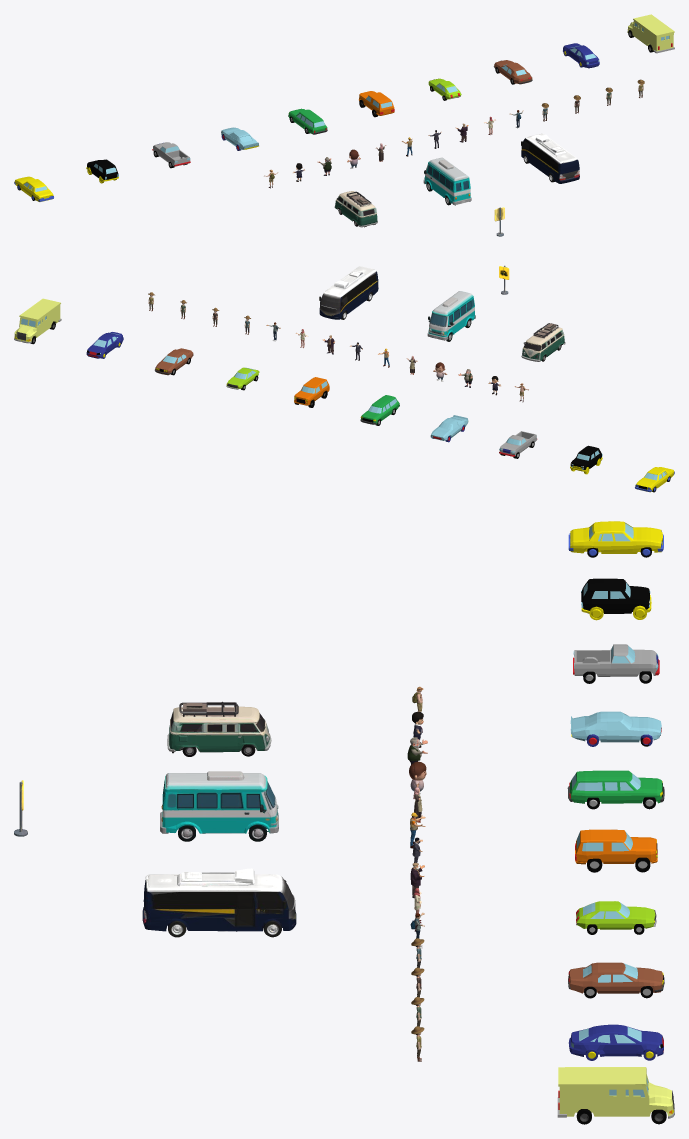
File: Fullfilled_Prefabs.glb
3 views of the same model, one above another, from view 1: azimuth 30°, elevation 25°; view 2: azimuth 150°, elevation 25°; view 3: azimuth 270°, elevation 25° (orthographic). The views are drawn at different scales.
Visible parts, largest first — view 1: SPW_BUS_T3_midibus, SPW_BUS_T2_minibus, SPW_CAR_10, SPW_BUS_T1_dolmus, SPW_CAR_05, SPW_CAR_06, SPW_CAR_01, SPW_CAR_03, SPW_CAR_08, SPW_CAR_09, SPW_CAR_04, SPW_CAR_02 (+1 smaller); view 2: SPW_BUS_T3_midibus, SPW_BUS_T2_minibus, SPW_CAR_10, SPW_BUS_T1_dolmus, SPW_CAR_05, SPW_CAR_06, SPW_CAR_08, SPW_CAR_03, SPW_CAR_09, SPW_CAR_01, SPW_CAR_04, SPW_CAR_02 (+1 smaller); view 3: SPW_BUS_T3_midibus, SPW_BUS_T2_minibus, SPW_CAR_10, SPW_BUS_T1_dolmus, SPW_CAR_05, SPW_CAR_06, SPW_CAR_08, SPW_CAR_01, SPW_CAR_09, SPW_CAR_03, SPW_CAR_04, SPW_CAR_02 (+1 smaller).
Boxes of the visible parts, x1=… form: SPW_BUS_T3_midibus: x1=521, y1=133, x2=579, y2=183; SPW_BUS_T2_minibus: x1=423, y1=157, x2=471, y2=205; SPW_CAR_10: x1=627, y1=14, x2=674, y2=53; SPW_BUS_T1_dolmus: x1=334, y1=191, x2=377, y2=227; SPW_CAR_05: x1=288, y1=108, x2=327, y2=134; SPW_CAR_06: x1=358, y1=91, x2=394, y2=117; SPW_CAR_01: x1=14, y1=176, x2=53, y2=201; SPW_CAR_03: x1=152, y1=142, x2=190, y2=168; SPW_CAR_08: x1=493, y1=60, x2=532, y2=84; SPW_CAR_09: x1=563, y1=43, x2=599, y2=68; SPW_CAR_04: x1=221, y1=127, x2=258, y2=150; SPW_CAR_02: x1=86, y1=159, x2=118, y2=183; SPW_BUS_T3_midibus: x1=319, y1=266, x2=378, y2=319; SPW_BUS_T2_minibus: x1=427, y1=291, x2=475, y2=341; SPW_CAR_10: x1=14, y1=298, x2=61, y2=344; SPW_BUS_T1_dolmus: x1=521, y1=323, x2=565, y2=361; SPW_CAR_05: x1=360, y1=395, x2=399, y2=425; SPW_CAR_06: x1=294, y1=377, x2=329, y2=407; SPW_CAR_08: x1=154, y1=348, x2=193, y2=375; SPW_CAR_03: x1=499, y1=431, x2=537, y2=458; SPW_CAR_09: x1=86, y1=332, x2=123, y2=358; SPW_CAR_01: x1=635, y1=467, x2=674, y2=492; SPW_CAR_04: x1=430, y1=415, x2=468, y2=442; SPW_CAR_02: x1=570, y1=445, x2=602, y2=474; SPW_BUS_T3_midibus: x1=142, y1=868, x2=296, y2=937; SPW_BUS_T2_minibus: x1=160, y1=771, x2=278, y2=841; SPW_CAR_10: x1=557, y1=1067, x2=674, y2=1124; SPW_BUS_T1_dolmus: x1=167, y1=701, x2=271, y2=756; SPW_CAR_05: x1=567, y1=770, x2=664, y2=809; SPW_CAR_06: x1=575, y1=829, x2=657, y2=872; SPW_CAR_08: x1=568, y1=962, x2=664, y2=998; SPW_CAR_01: x1=568, y1=521, x2=663, y2=557; SPW_CAR_09: x1=568, y1=1024, x2=663, y2=1060; SPW_CAR_03: x1=573, y1=644, x2=659, y2=683; SPW_CAR_04: x1=570, y1=711, x2=661, y2=746; SPW_CAR_02: x1=581, y1=578, x2=651, y2=620.
Size of the model in its own units: 27.77 by 1.34 by 13.32.
Materials: 28 (28 with a texture image).
